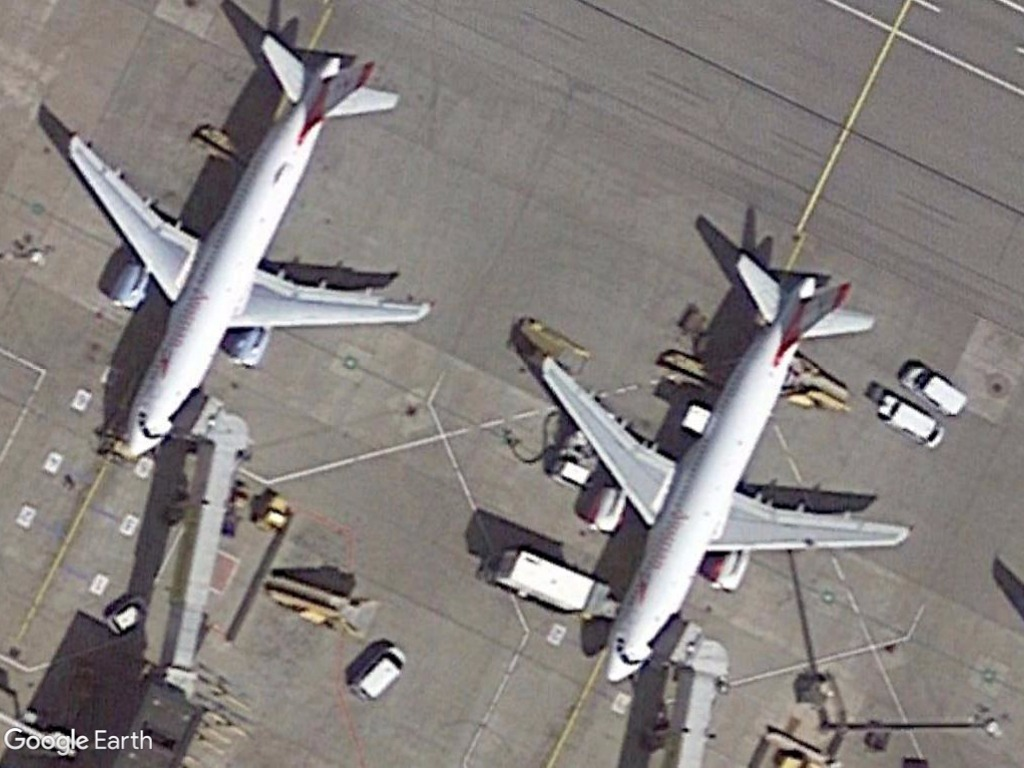airliner: (535, 245, 916, 688), (64, 25, 435, 468)
van: (880, 391, 946, 449), (901, 360, 968, 417), (351, 641, 410, 702)
